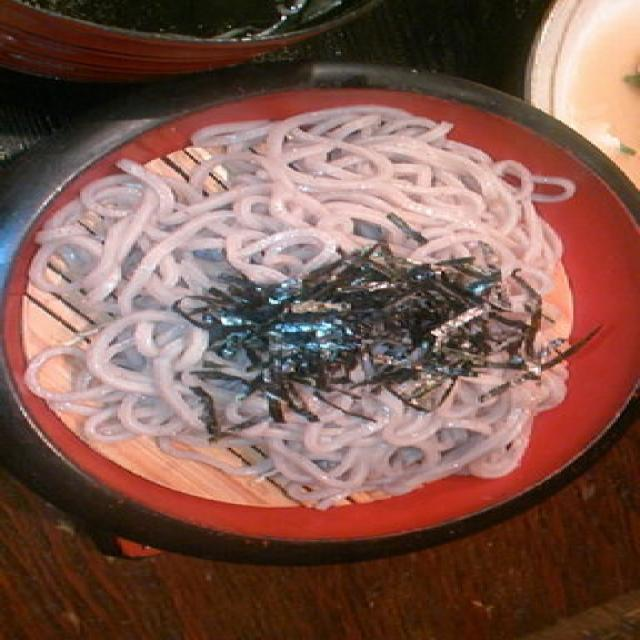面条主食: (0, 57, 640, 564)
